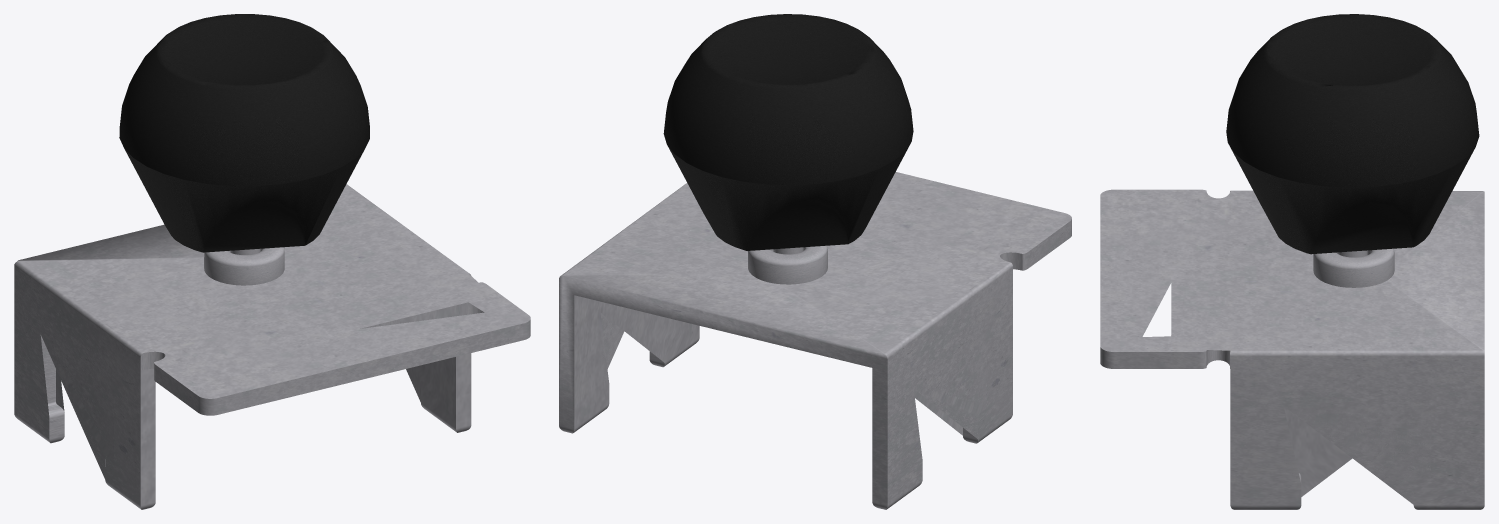
The model's file is strap_clamp.fbx.
The picture shows the model from 3 angles, left to right: view 1: azimuth 30°, elevation 25°; view 2: azimuth 150°, elevation 25°; view 3: azimuth 270°, elevation 25°; orthographic projection.
Parts seen in each view (by area): view 1: clamp, knob; view 2: clamp, knob; view 3: clamp, knob.
Boxes of the visible parts, x1,y1,x2,y2 form: clamp: [14, 184, 530, 509]; knob: [119, 14, 369, 252]; clamp: [559, 172, 1071, 509]; knob: [663, 14, 913, 250]; clamp: [1100, 189, 1484, 509]; knob: [1226, 14, 1479, 254].
Bounding box in the file's own units: 6.5 × 7.11 × 6.5.
Materials: 2 (2 with a texture image).
